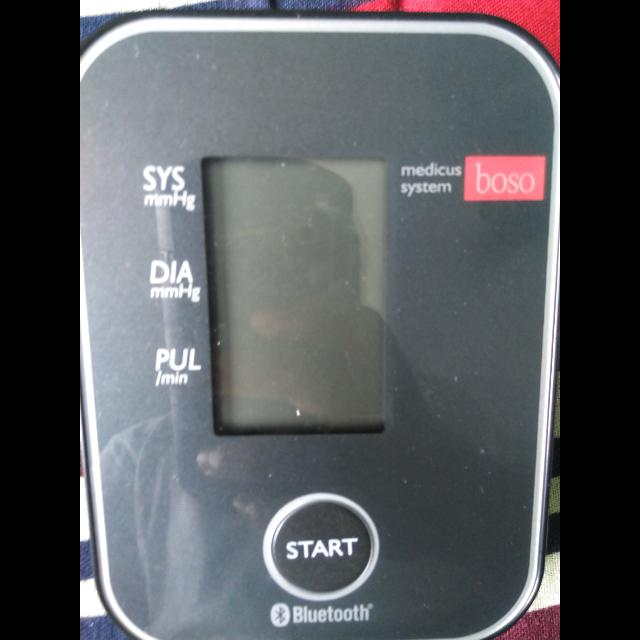Blood-Pressure-Monitor: (84, 1, 560, 640)
